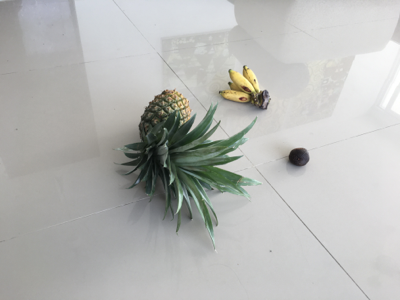banana: (219, 65, 271, 111)
pineapple: (115, 90, 261, 249)
snake fruit: (288, 148, 311, 168)
